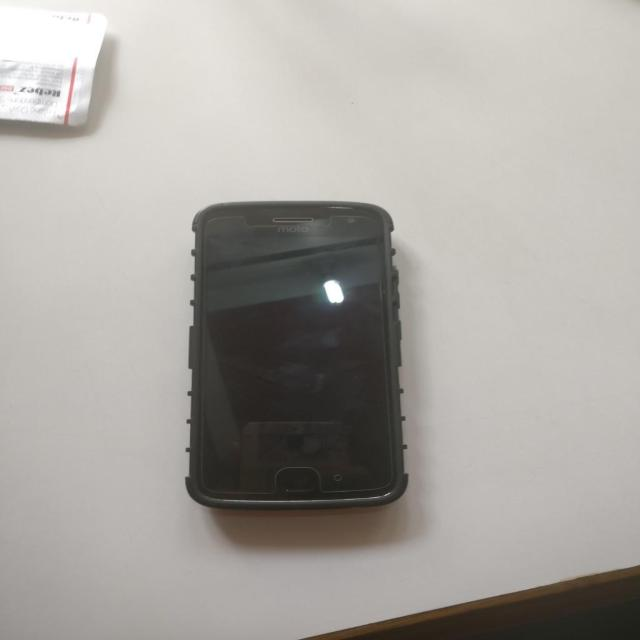Phone: (185, 201, 404, 508)
